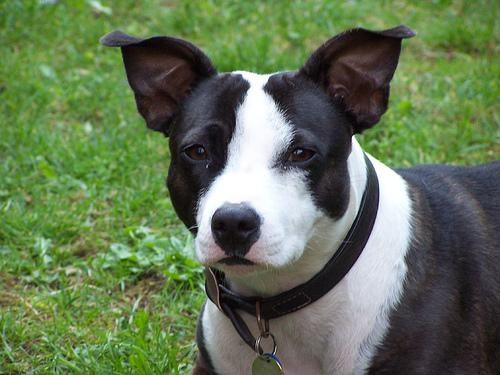dog-staffordshire_bull_terrier: (98, 24, 414, 273)
